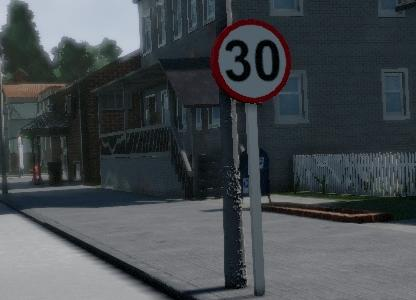Speed_30: (305, 0, 408, 91)
